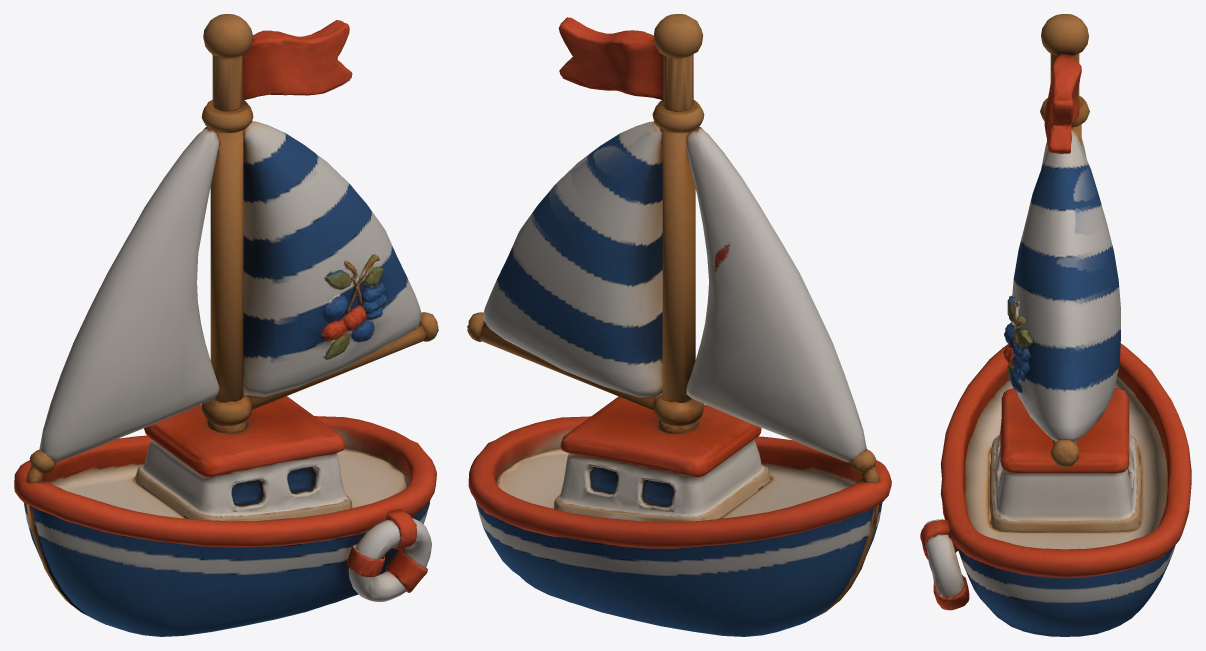
File: boat_wildberry.glb
3 views of the same model, side by side, from view 1: azimuth 30°, elevation 25°; view 2: azimuth 150°, elevation 25°; view 3: azimuth 270°, elevation 25° (orthographic). The views are drawn at different scales.
Visible parts, largest first — view 1: tripo_node_9550b0d8-9805-4f38-aac7-e03835f4139f; view 2: tripo_node_9550b0d8-9805-4f38-aac7-e03835f4139f; view 3: tripo_node_9550b0d8-9805-4f38-aac7-e03835f4139f.
Part boxes in pixels (<box>): tripo_node_9550b0d8-9805-4f38-aac7-e03835f4139f: <box>14,14,438,636</box>; tripo_node_9550b0d8-9805-4f38-aac7-e03835f4139f: <box>467,14,891,636</box>; tripo_node_9550b0d8-9805-4f38-aac7-e03835f4139f: <box>920,14,1191,636</box>.
Bounding box in the file's own units: 0.7559 × 0.998 × 0.4434.
1 material, 1 textured.
